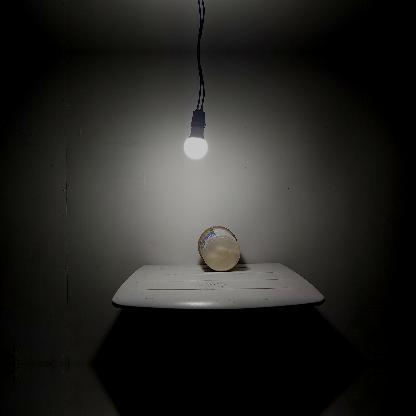Lady-s-Choice: (197, 225, 241, 271)
